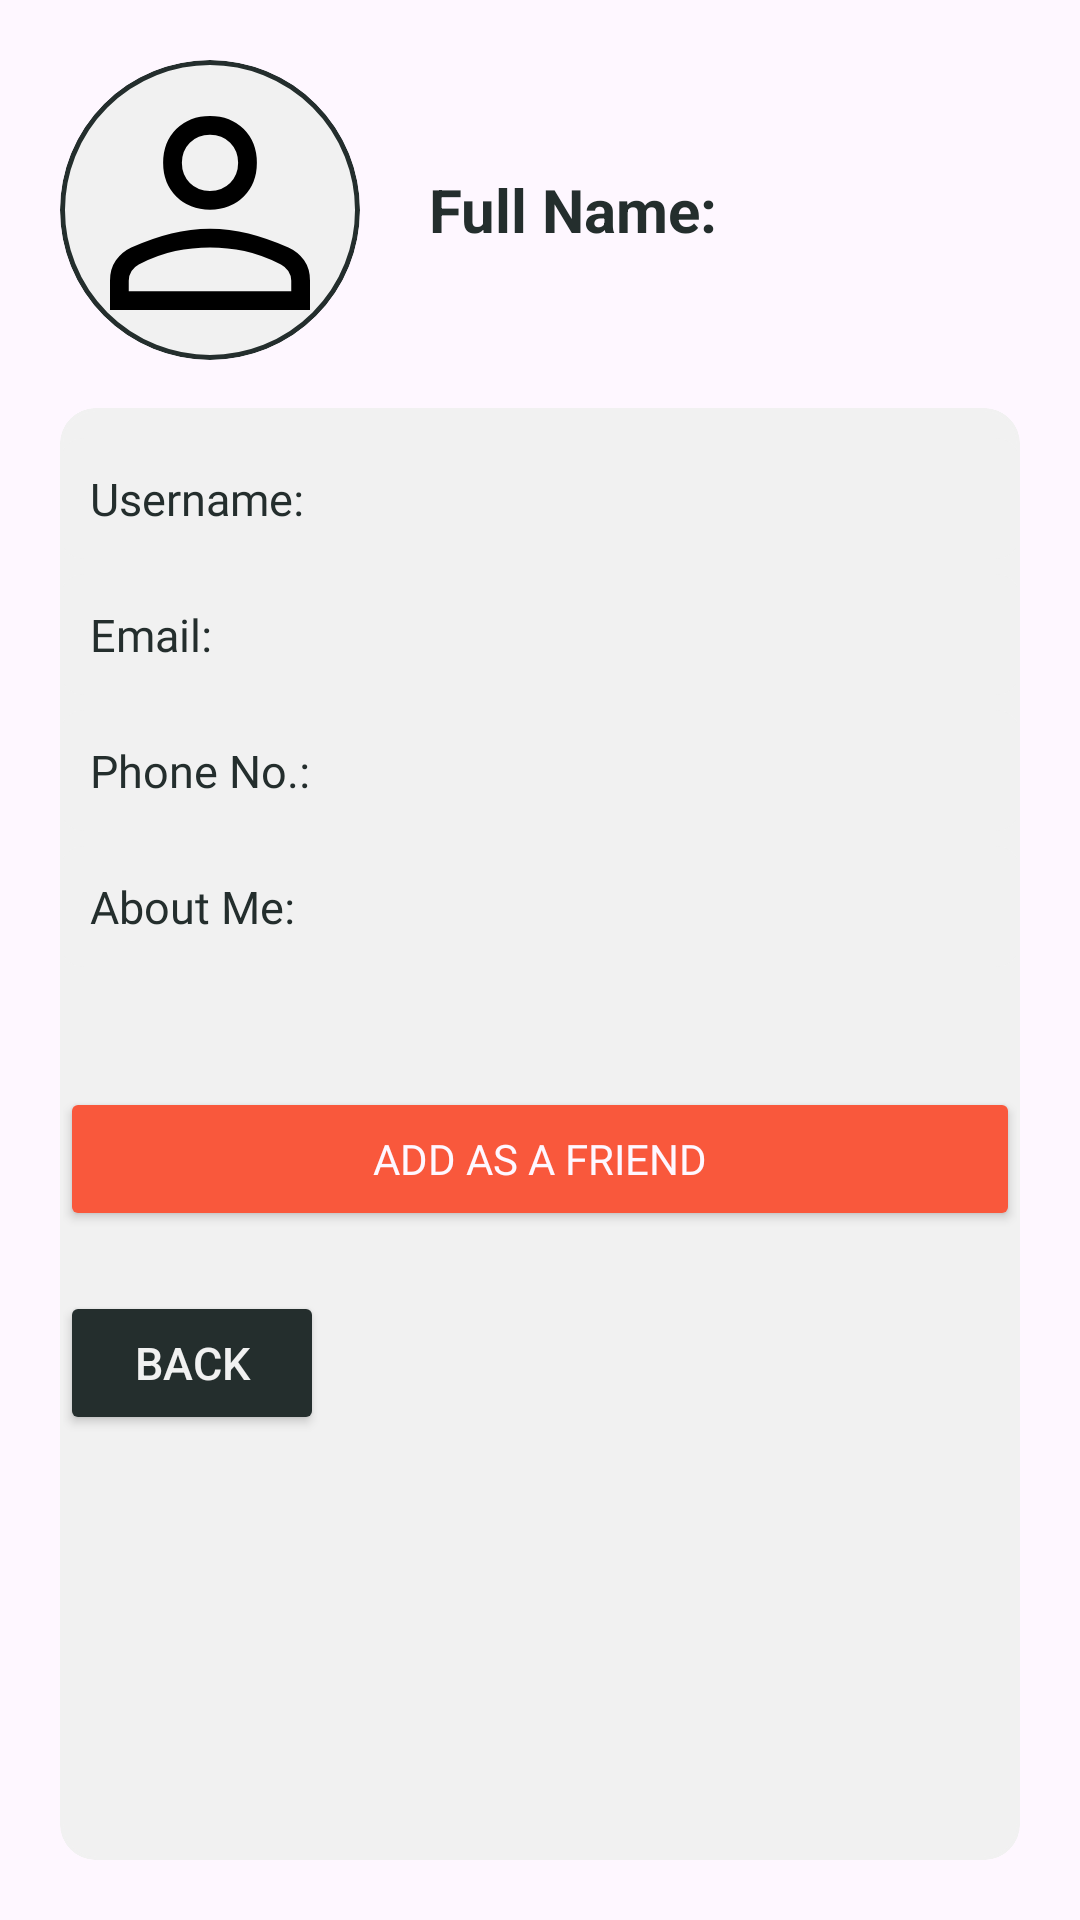

Named icons in this screenshot (1080px x 1920px) and their centers, point (x, y):
account: point (210, 210)
